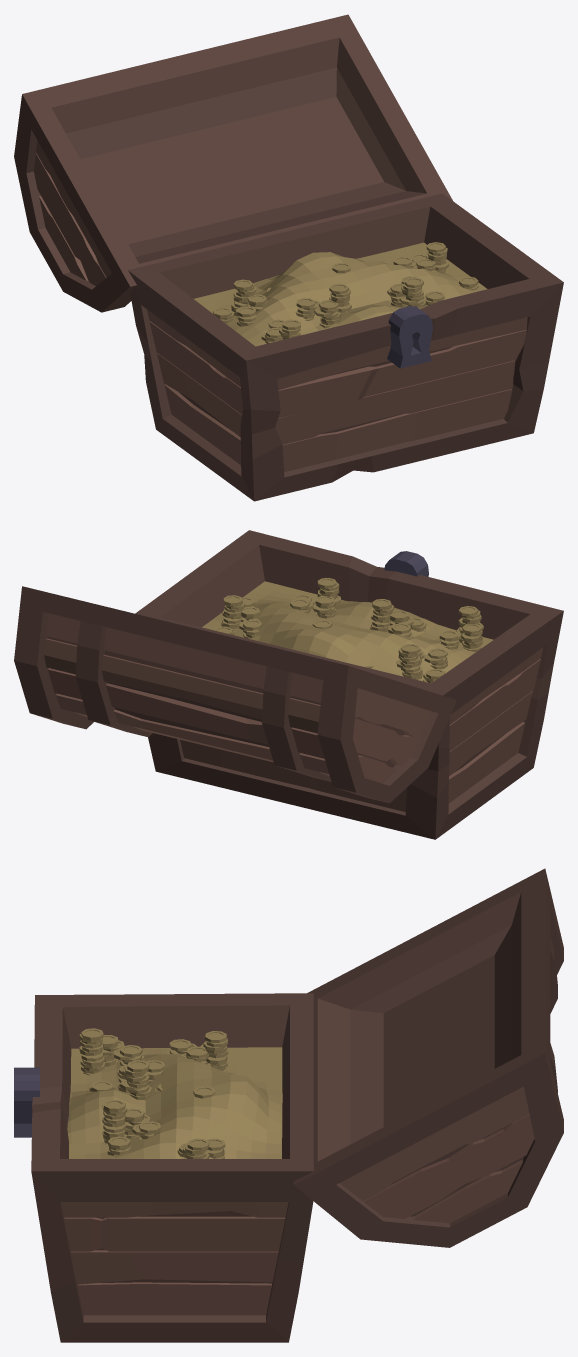
Rendered from treasure.glb.
3 views of the same model, one above another, from view 1: azimuth 30°, elevation 25°; view 2: azimuth 150°, elevation 25°; view 3: azimuth 270°, elevation 25° (orthographic). The views are drawn at different scales.
Visible parts, largest first — view 1: Chest_Base, Chest_Top; view 2: Chest_Base, Chest_Top; view 3: Chest_Base, Chest_Top.
Part boxes in pixels (bbox=[...]): Chest_Base: bbox=[128, 193, 563, 501]; Chest_Top: bbox=[14, 14, 452, 312]; Chest_Base: bbox=[135, 530, 563, 839]; Chest_Top: bbox=[14, 586, 456, 803]; Chest_Base: bbox=[14, 993, 313, 1342]; Chest_Top: bbox=[293, 868, 563, 1247].
Size of the model in its own units: 1.18 by 0.8994 by 1.48.
